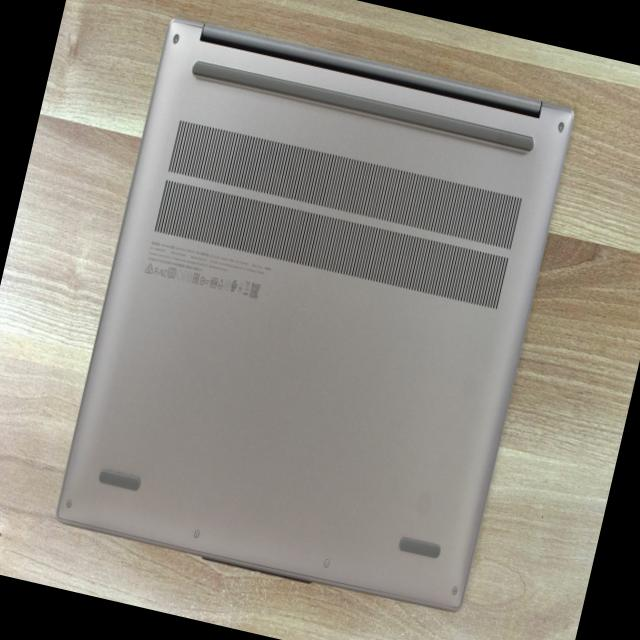outerscrew: (446, 577, 461, 597), (556, 118, 568, 138), (63, 496, 78, 511), (171, 30, 181, 44)
